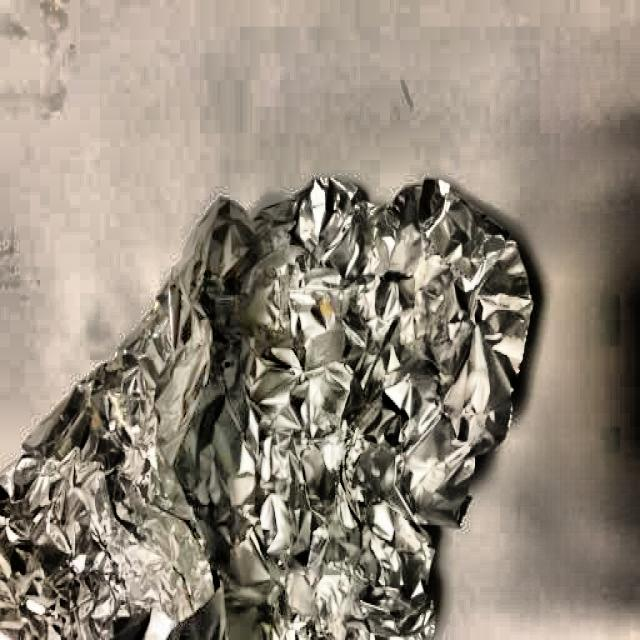metal: (1, 158, 531, 640)
